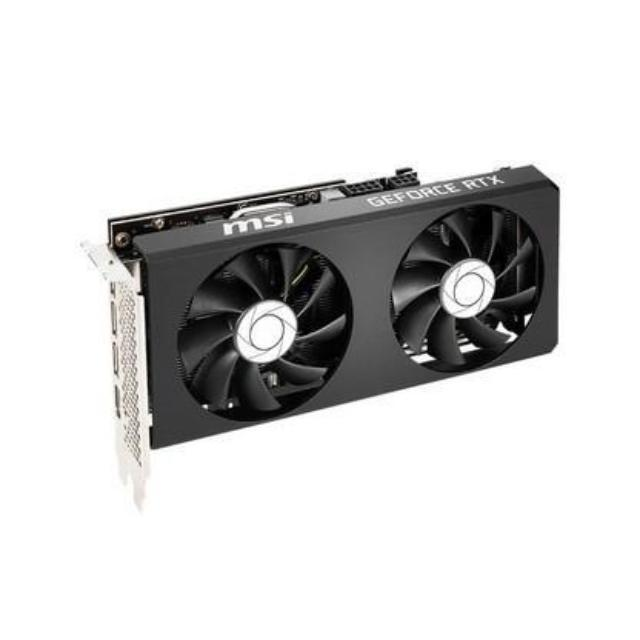GPU: (78, 152, 580, 462)
